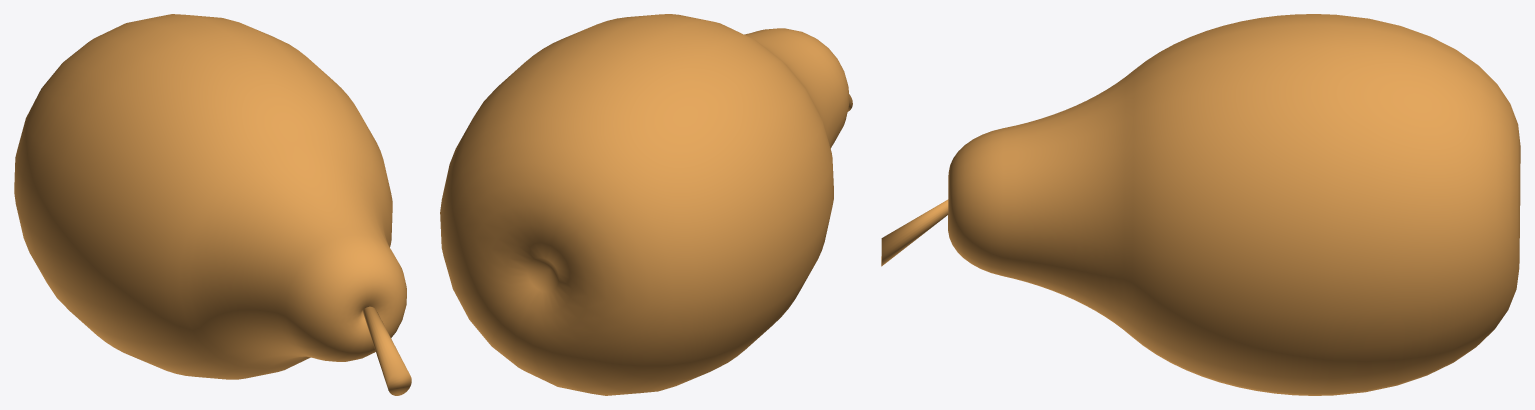
File: pear1_6.dae
3 renders of one model, left to right at view 1: azimuth 30°, elevation 25°; view 2: azimuth 150°, elevation 25°; view 3: azimuth 270°, elevation 25°, orthographic. The views are drawn at different scales.
Parts seen in each view (by area): view 1: pear1_019; view 2: pear1_019; view 3: pear1_019.
Part boxes in pixels (x1,y1,x2,y2): pear1_019: (14, 14, 411, 395); pear1_019: (440, 14, 852, 395); pear1_019: (881, 14, 1520, 395).
Size of the model in its own units: 0.045 by 0.0753 by 0.045.
